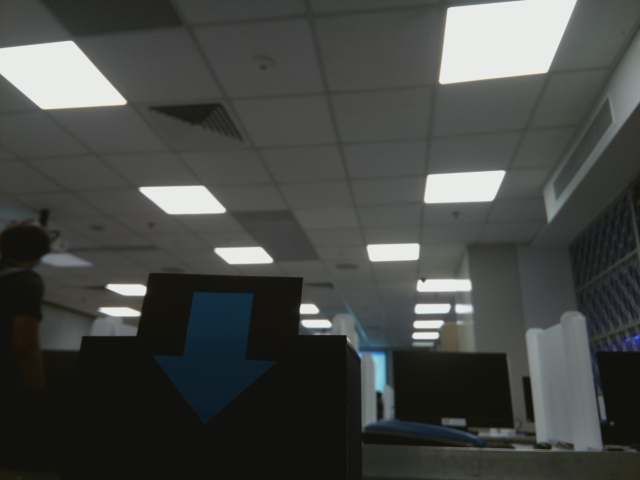down: (158, 285, 285, 418)
